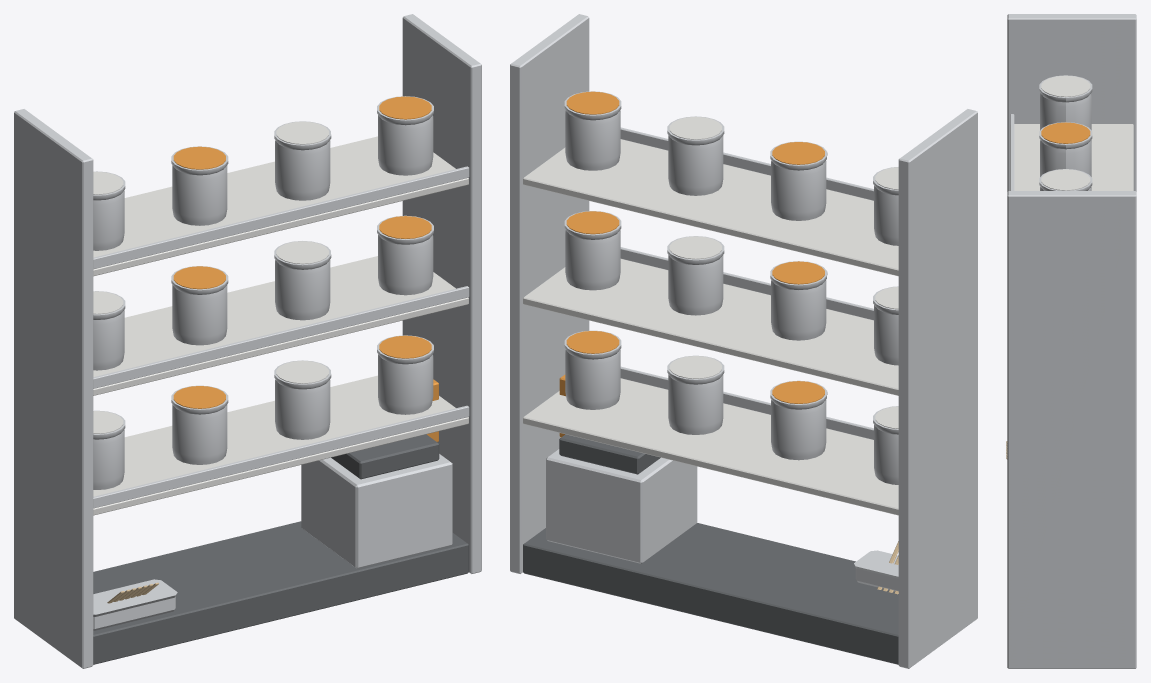
3 views of the same model, side by side, from view 1: azimuth 30°, elevation 25°; view 2: azimuth 150°, elevation 25°; view 3: azimuth 270°, elevation 25° (orthographic). The views are drawn at different scales.
Visible parts, largest first — view 1: paint-tinting-shelf; view 2: paint-tinting-shelf; view 3: paint-tinting-shelf.
Part boxes in pixels (x1,y1,x2,y2): paint-tinting-shelf: [14, 14, 481, 668]; paint-tinting-shelf: [510, 14, 977, 668]; paint-tinting-shelf: [1006, 14, 1136, 668].
Bounding box in the file's own units: 1.4 × 1.7 × 0.4235.
